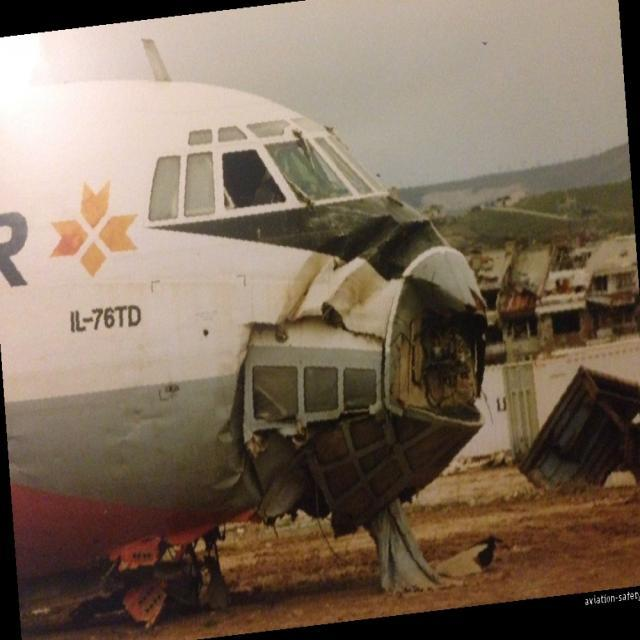dent: (212, 463, 245, 492), (217, 417, 238, 444)
